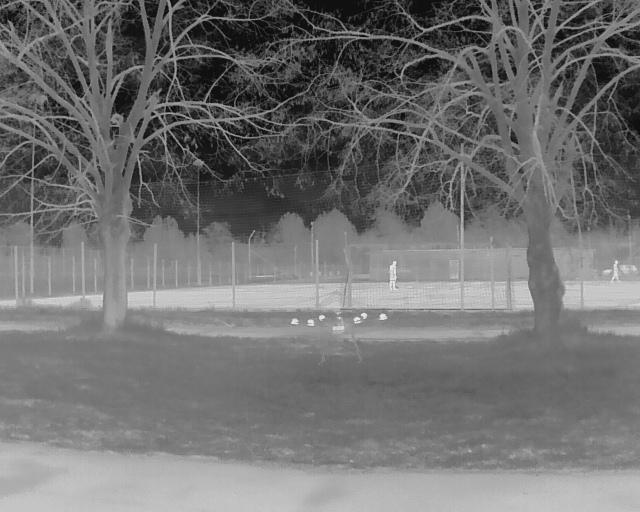drone: (277, 299, 399, 373)
